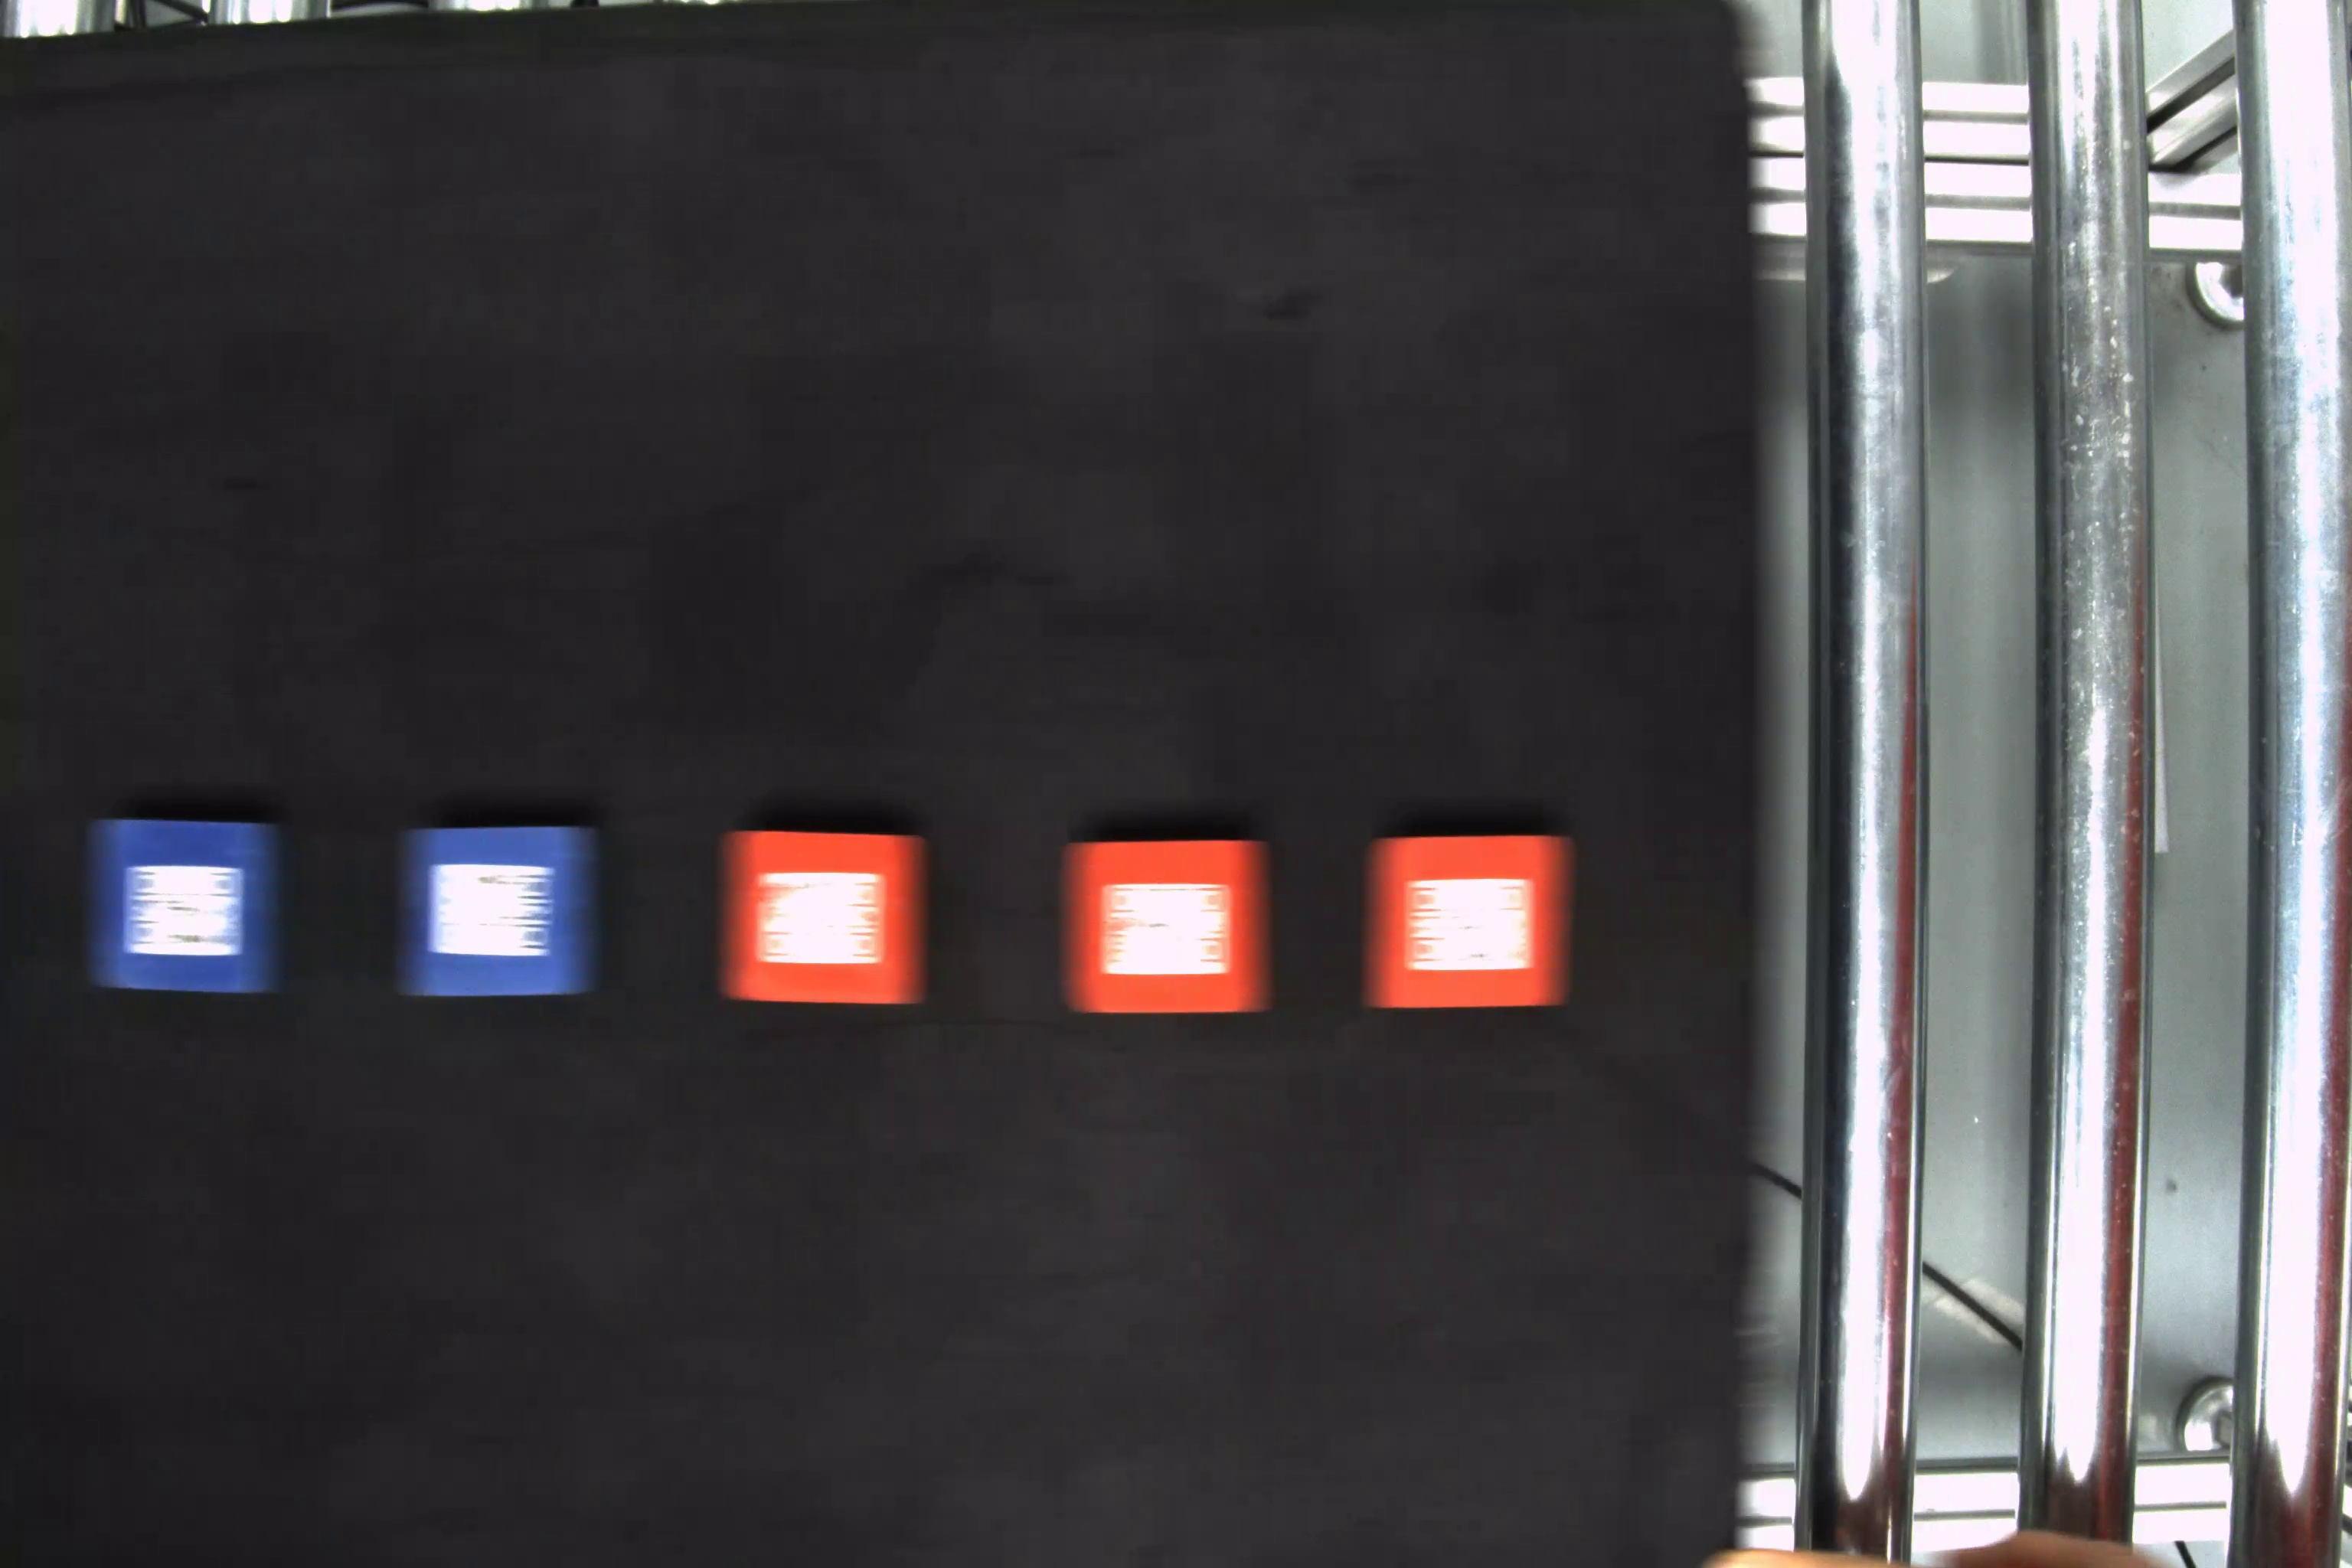wood: (1057, 835, 1277, 1017), (87, 808, 292, 1003), (390, 817, 605, 1001), (1361, 831, 1575, 1011), (712, 831, 929, 1008)
